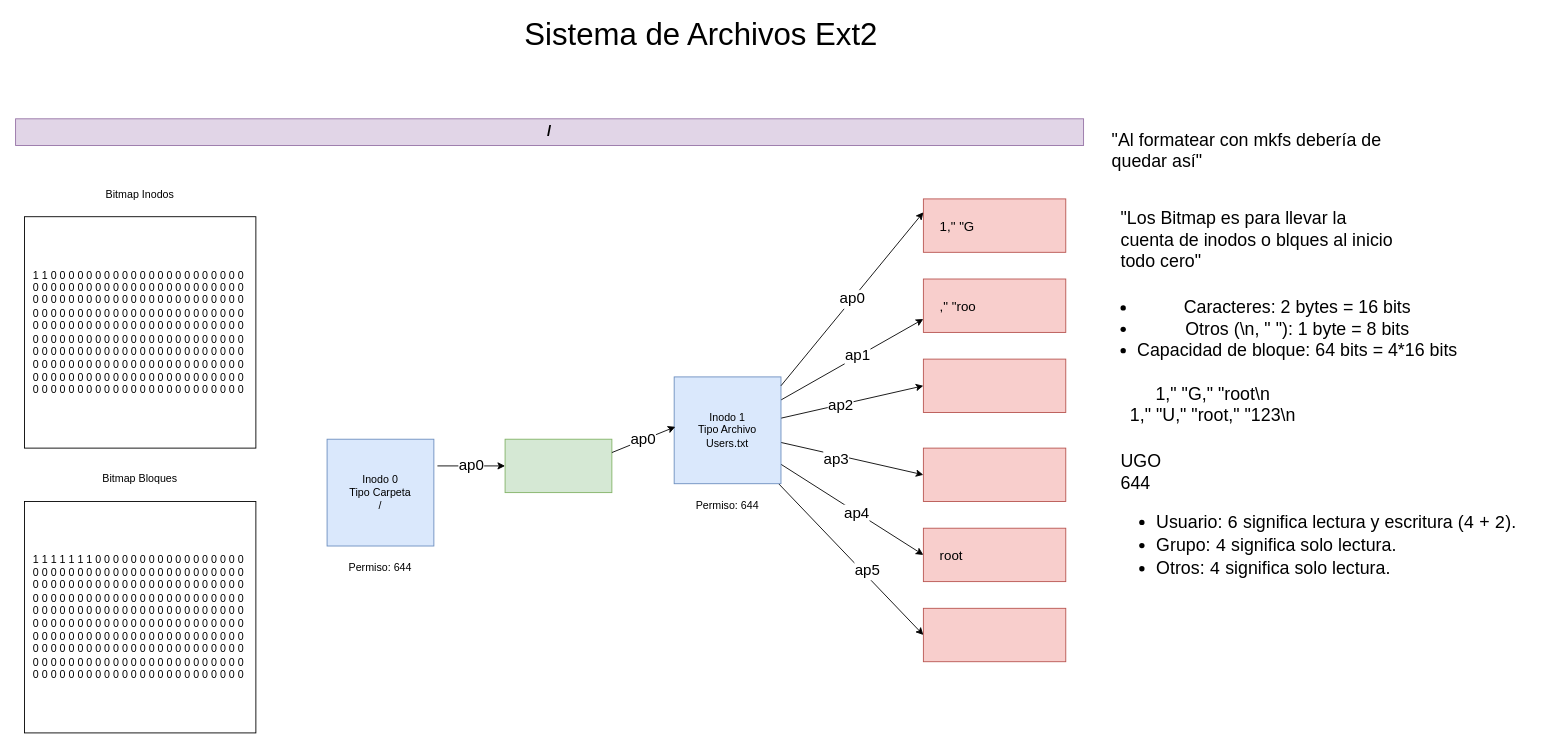
Image size: 1553x748. Some labels were removed from this diagram. Here are the shapes that lost their labels. From the top down, the box of each, then its label:
(922, 358, 1066, 413): ,t\n 1
(504, 438, 612, 493): Bloque Carpeta
(922, 447, 1066, 502): ," "U," "
(922, 607, 1066, 662): " " 123\n
